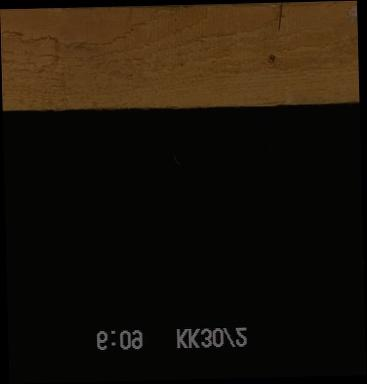dry_knot: (267, 53, 275, 65)
